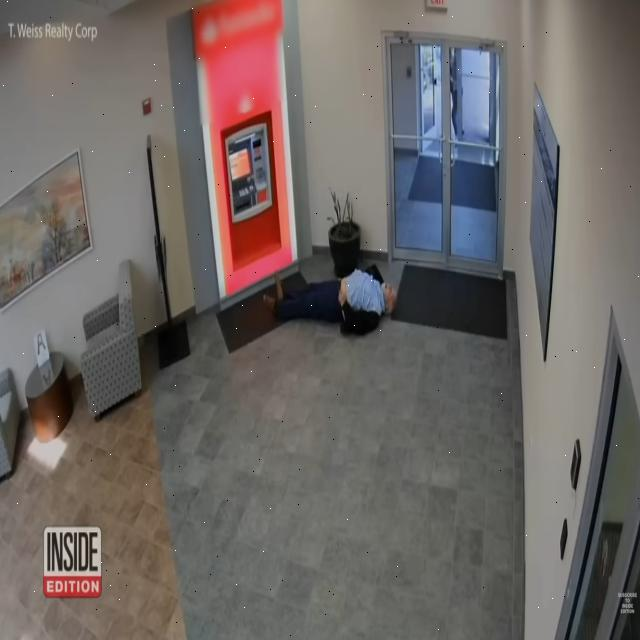fallen: (263, 265, 396, 335)
